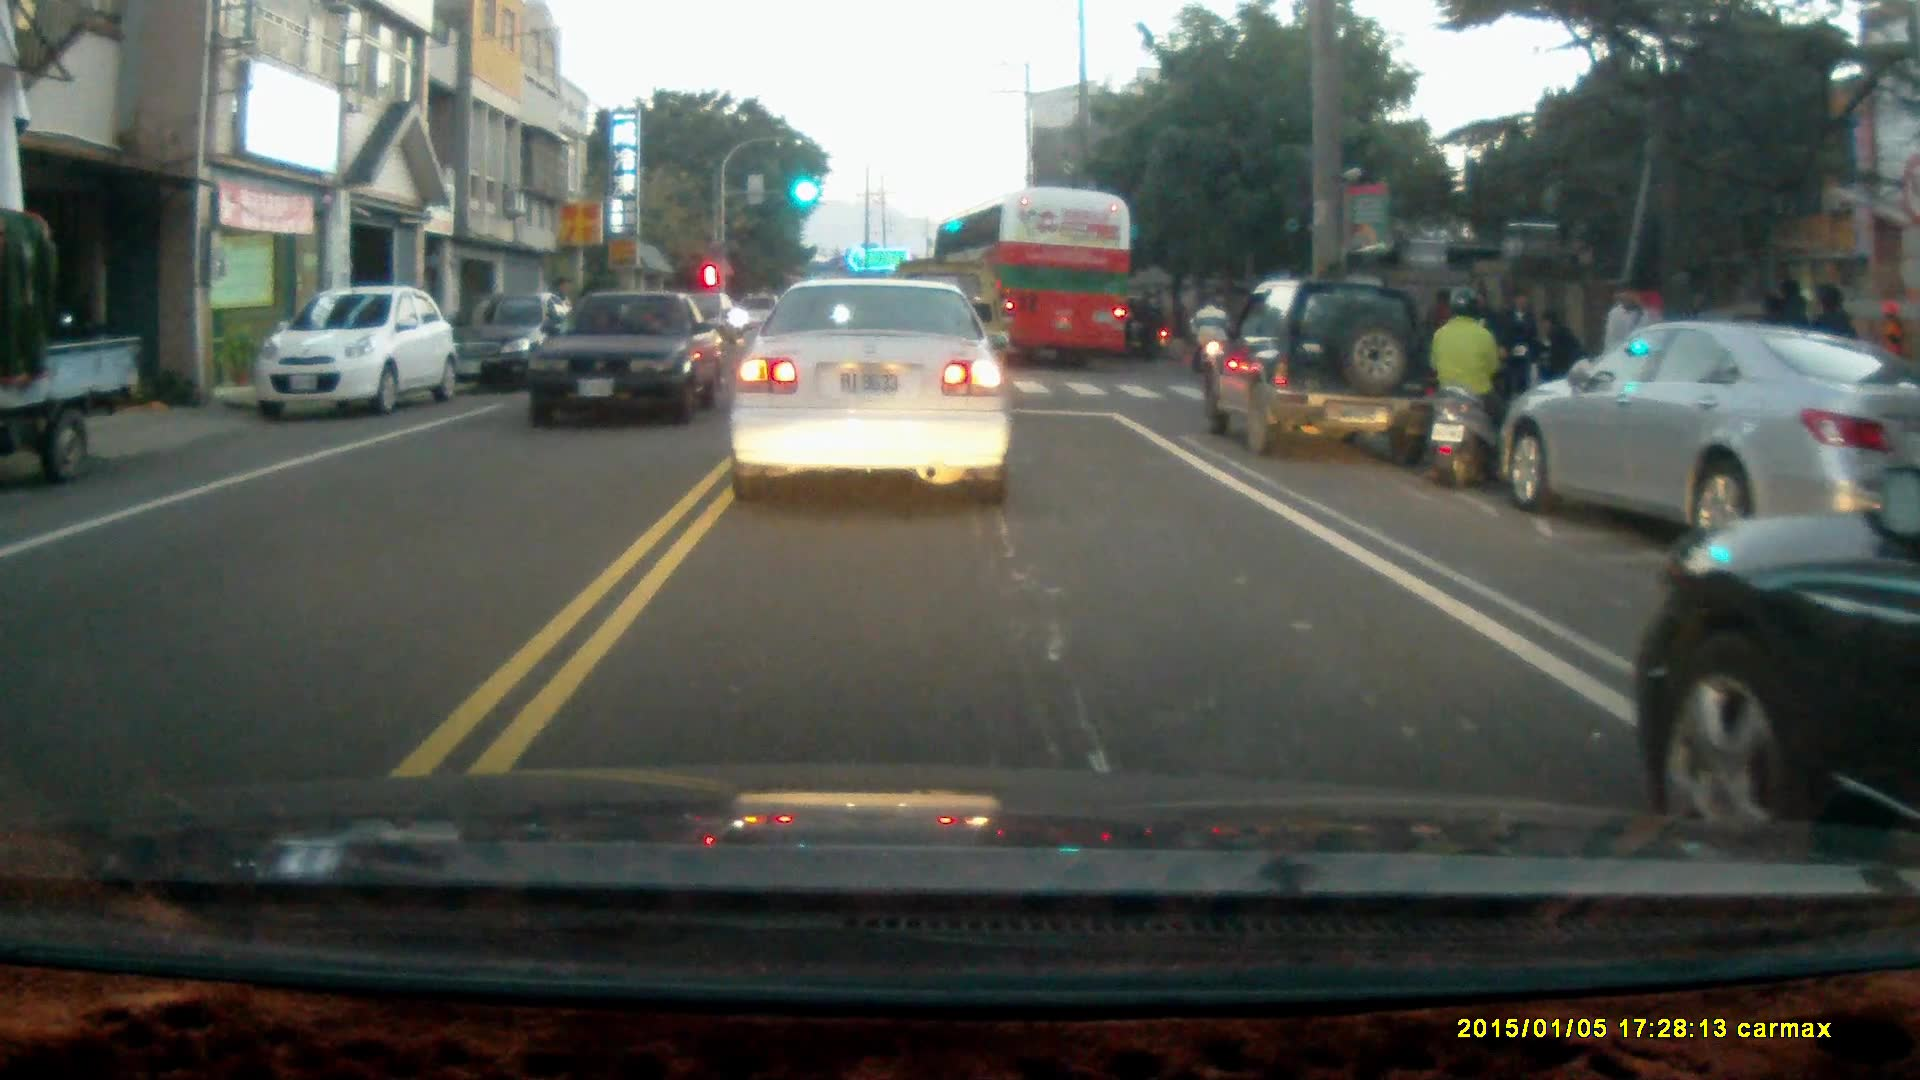pedestrian: (1594, 276, 1659, 416), (1495, 283, 1545, 422)
rider: (1424, 283, 1514, 491), (1113, 293, 1170, 362), (1187, 291, 1228, 374)
vehicle: (1500, 324, 1920, 563), (1651, 492, 1920, 823), (723, 269, 1016, 508), (1201, 275, 1444, 459), (1, 217, 144, 484), (934, 188, 1138, 373), (527, 286, 724, 430), (254, 286, 454, 416), (454, 288, 580, 391)
